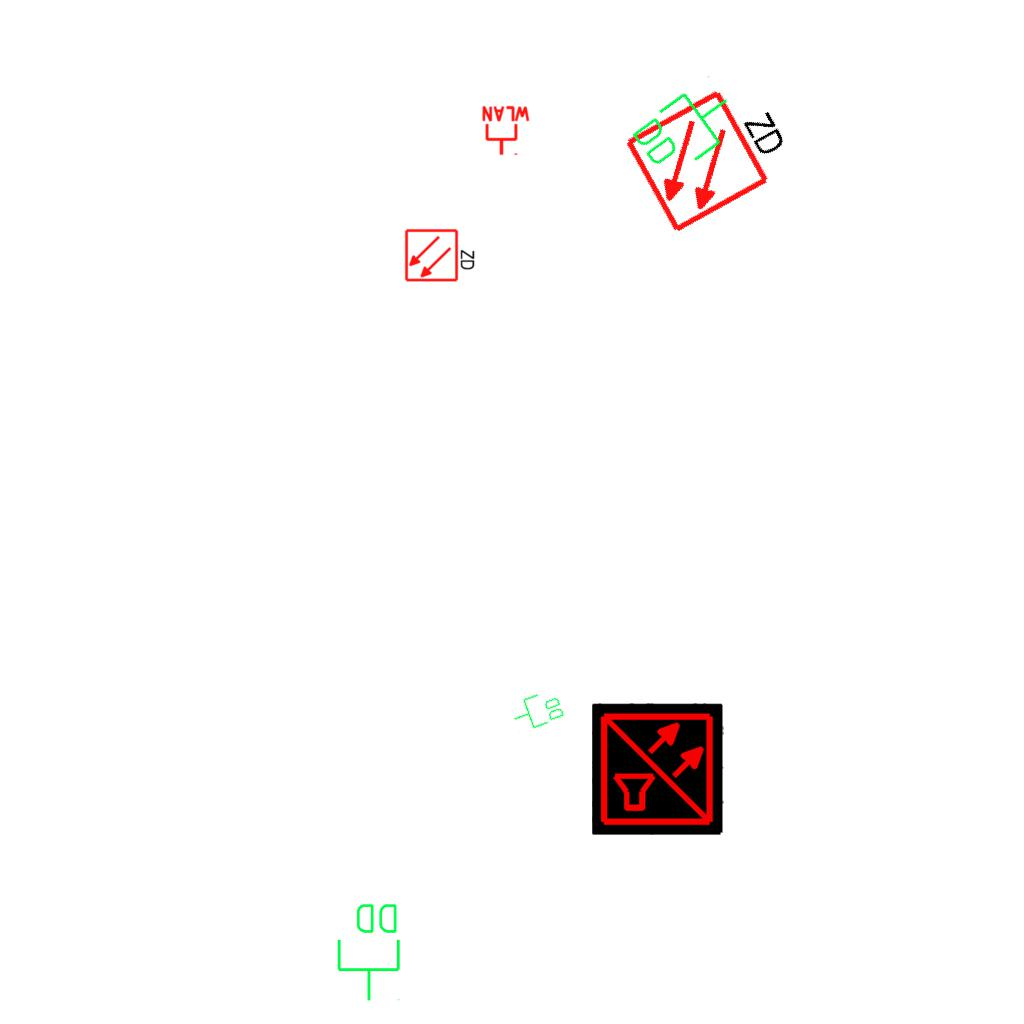Datenanschluss_zweifach: (624, 70, 749, 187), (335, 900, 404, 1003), (507, 686, 568, 736)
OKW_Multisensormelder_(Kombination_optischer_Rauch-Kahlenmonoxid_Waerme-Melder): (592, 703, 724, 835)
WLAN: (480, 105, 532, 157)
ZD_Melder_in_Zwischendecke_mit_Revisionsoeffnung_mind_40_x_40_cm: (620, 64, 806, 237), (404, 226, 478, 283)
